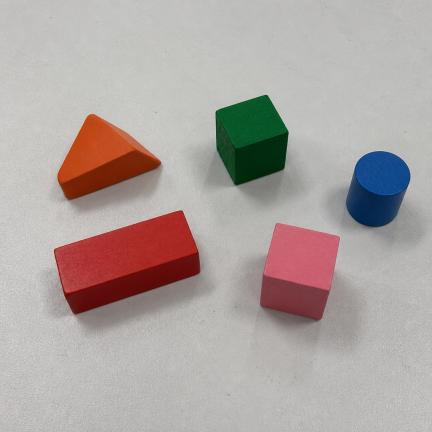BuildingBlocks: (54, 211, 199, 313), (58, 115, 160, 199), (261, 224, 339, 319), (216, 96, 288, 184), (346, 152, 410, 226)
